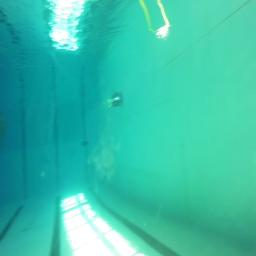Full: (82, 141, 89, 145)
front: (113, 97, 122, 107)
